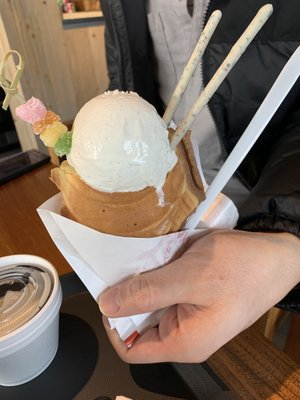pizza: (0, 254, 63, 386)
